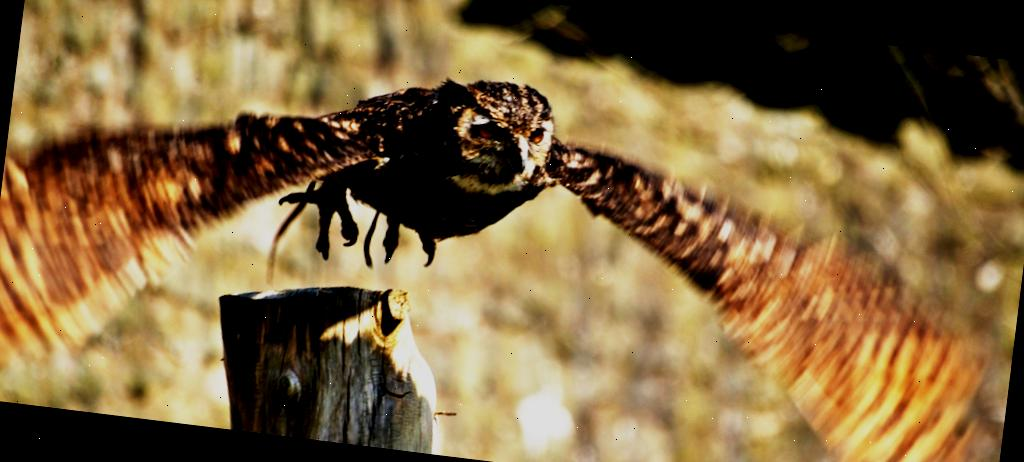Owl: (0, 18, 1024, 462)
